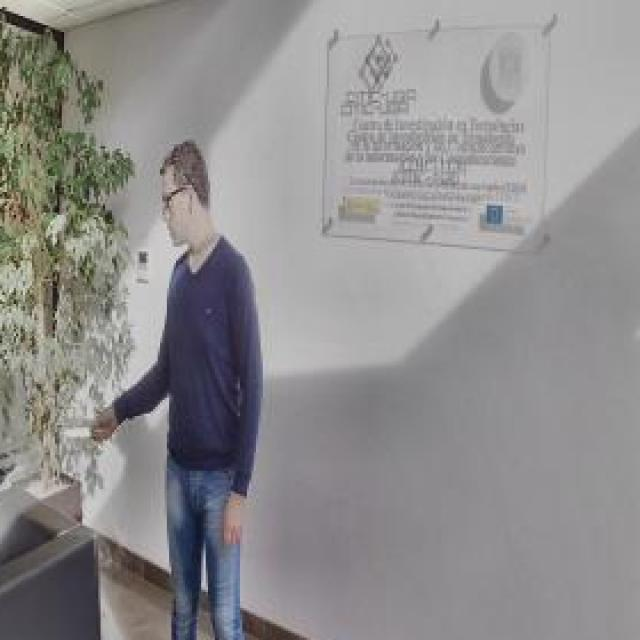knife: (59, 411, 111, 448)
